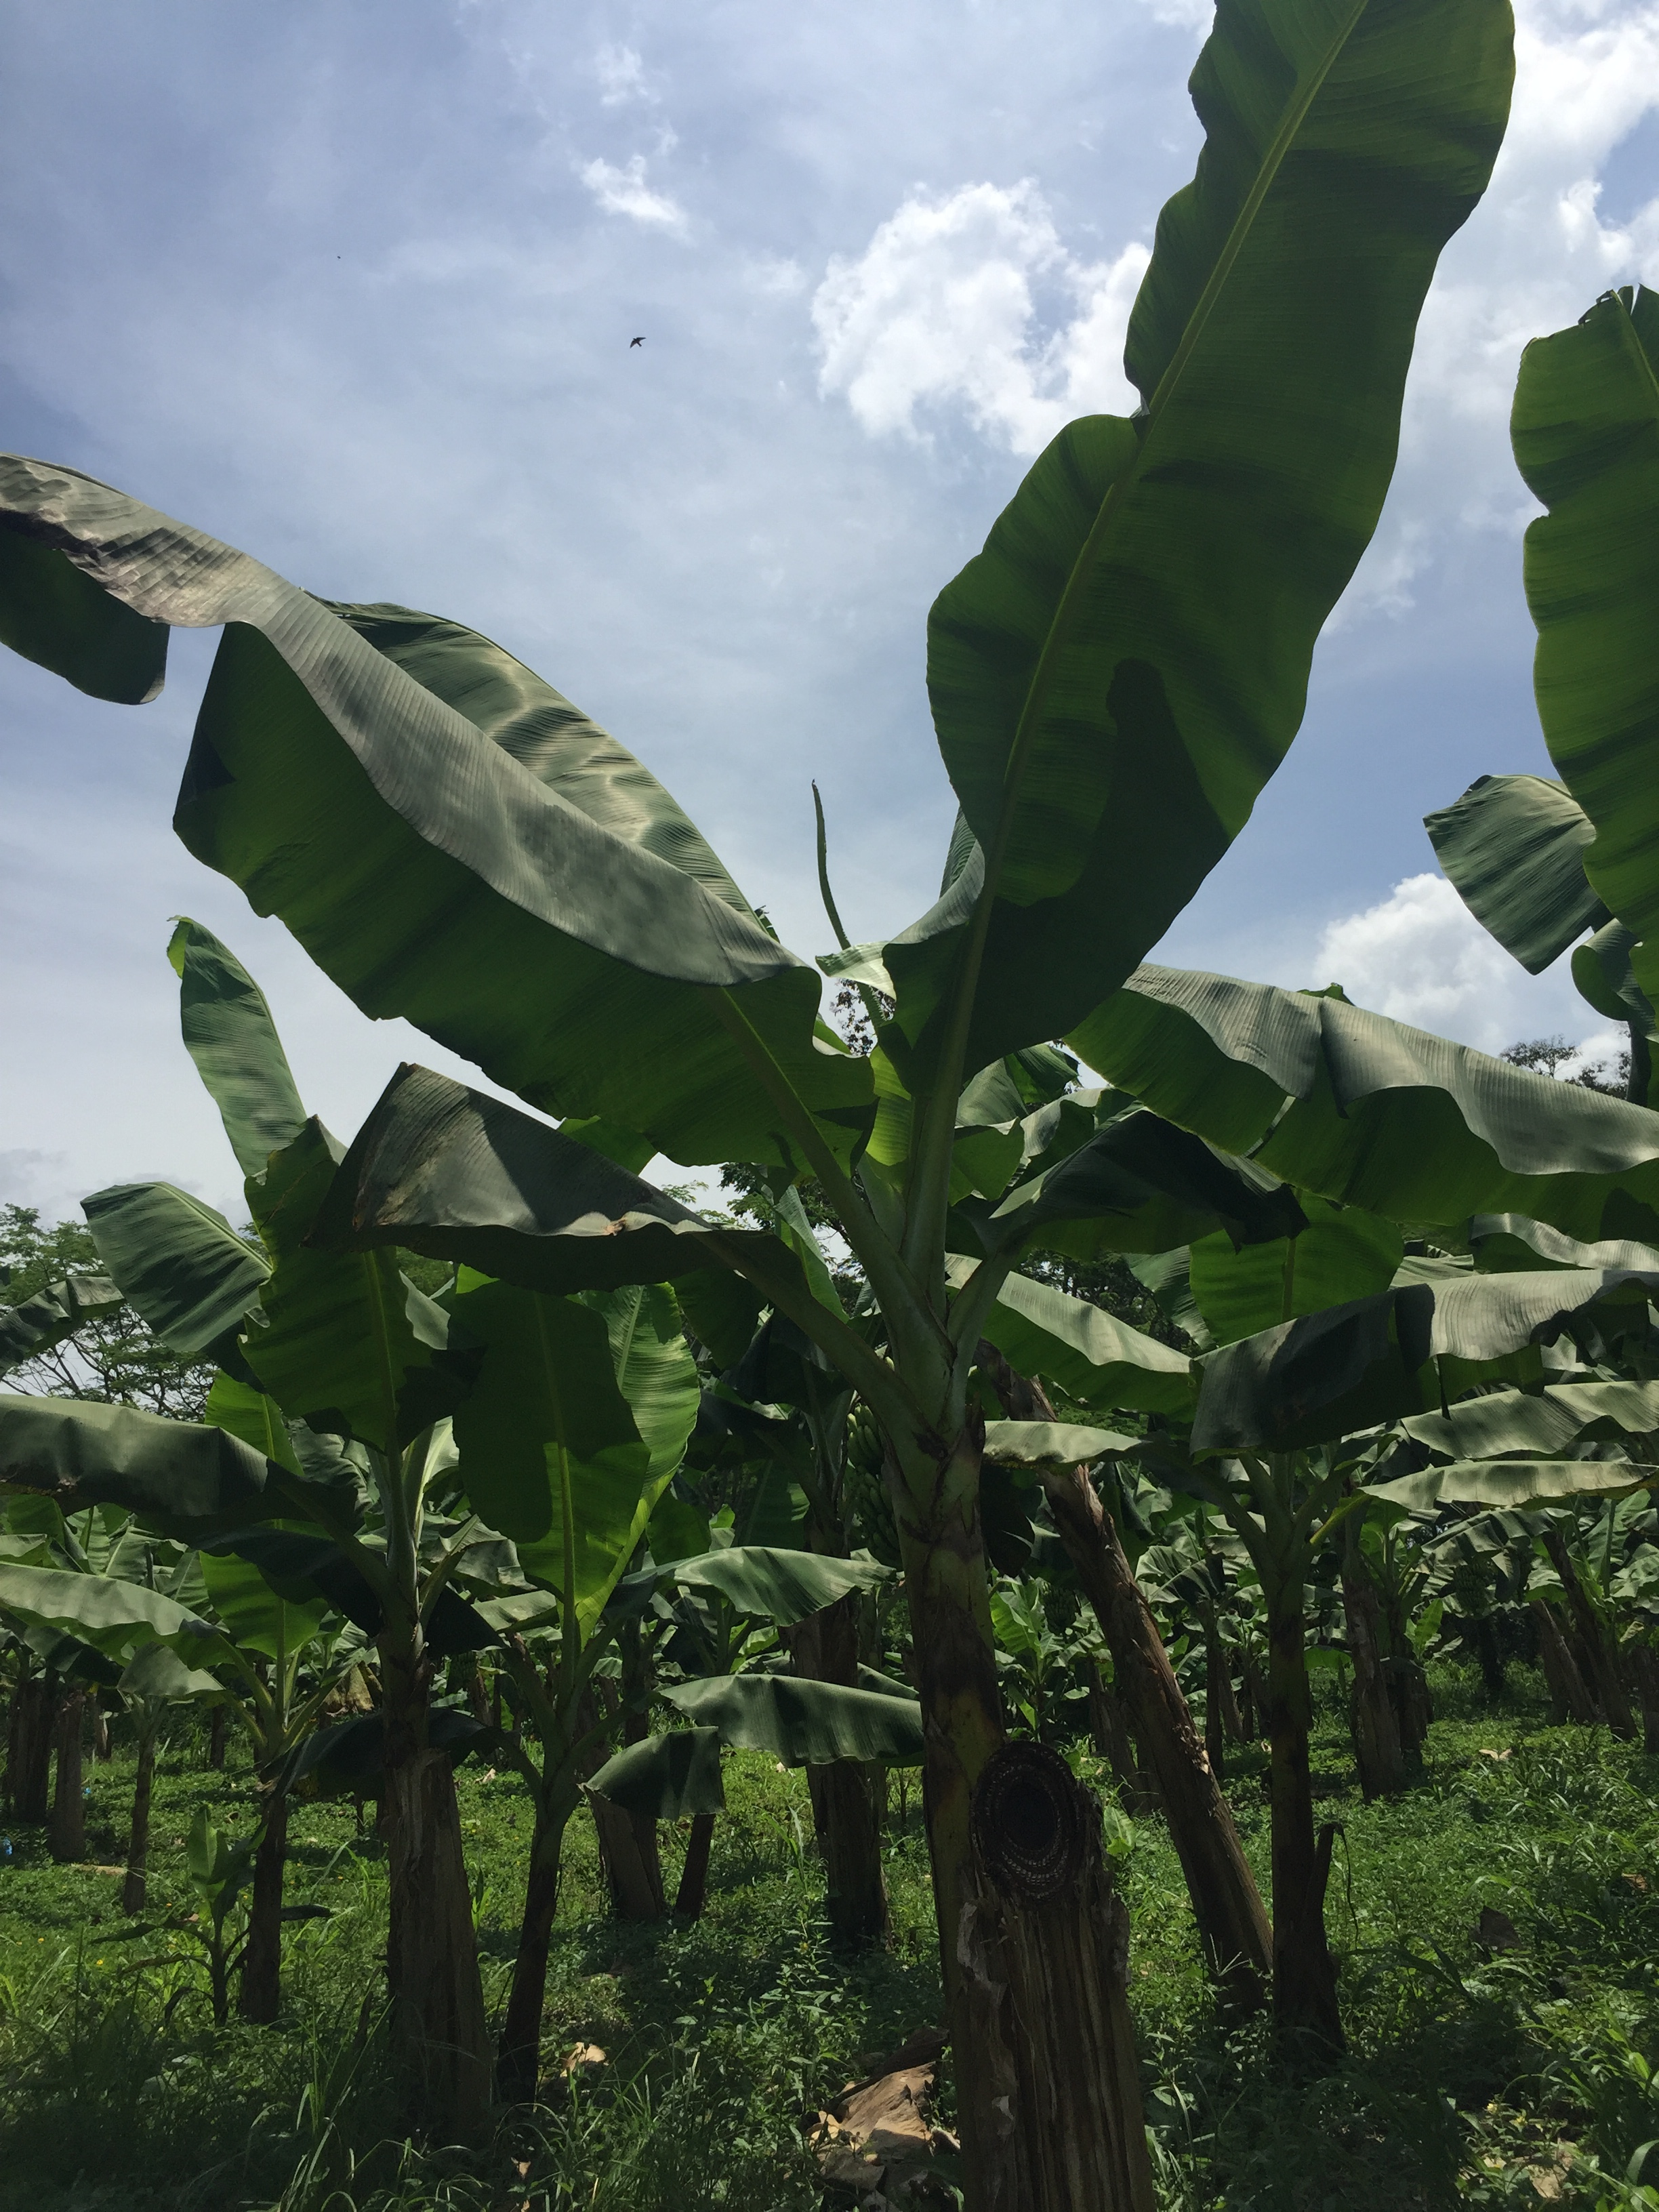candleleafs: (812, 777, 887, 1040)
